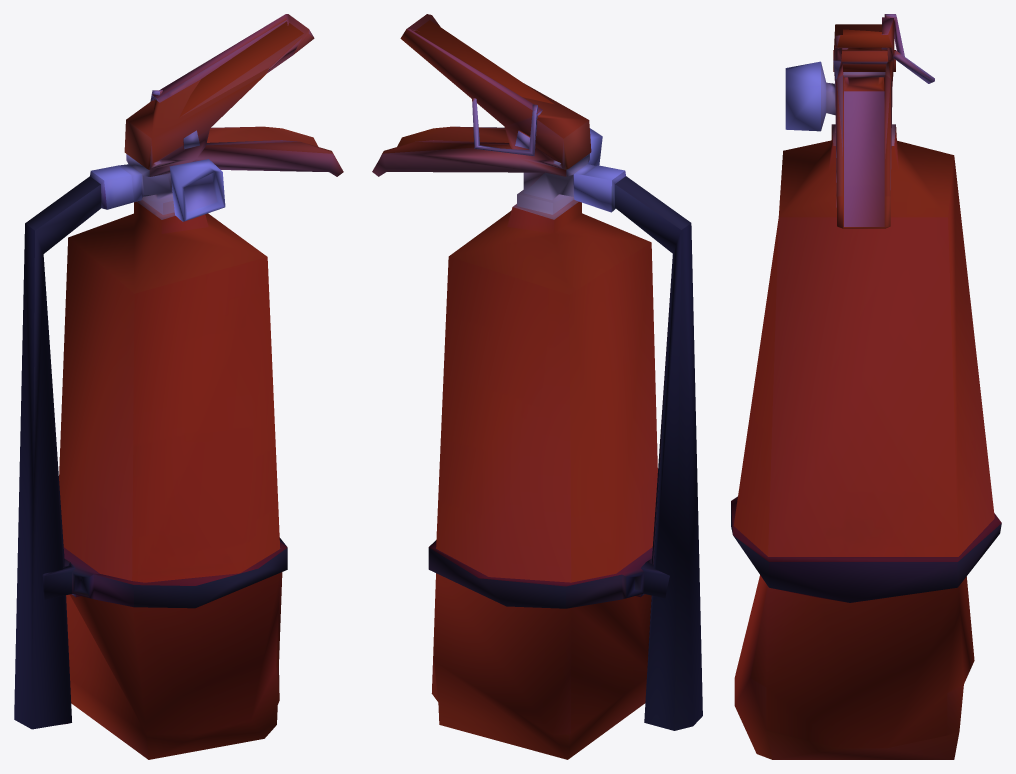
File: model.progressive.glb
3 renders of one model, left to right at view 1: azimuth 30°, elevation 25°; view 2: azimuth 150°, elevation 25°; view 3: azimuth 270°, elevation 25°, orthographic. The views are drawn at different scales.
Parts seen in each view (by area): view 1: FireExtinguisher2; view 2: FireExtinguisher2; view 3: FireExtinguisher2.
Part boxes in pixels (<box>): FireExtinguisher2: <box>14,14,343,759</box>; FireExtinguisher2: <box>372,14,702,759</box>; FireExtinguisher2: <box>731,14,1001,759</box>.
Bounding box in the file's own units: 0.9274 × 1.87 × 0.5995.
1 material, 1 textured.
